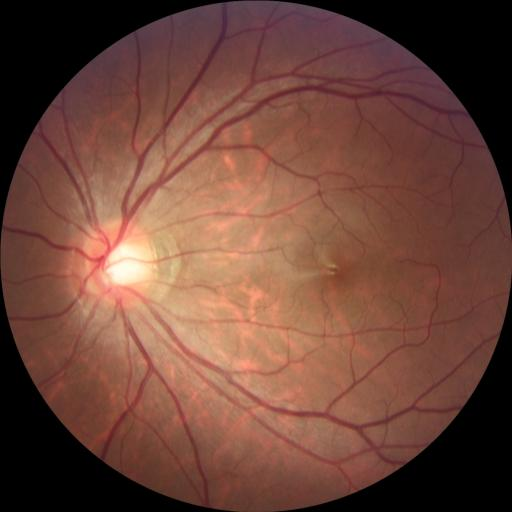Optic Cup: (103, 245, 144, 287)
Optic Disc: (86, 220, 156, 308)
